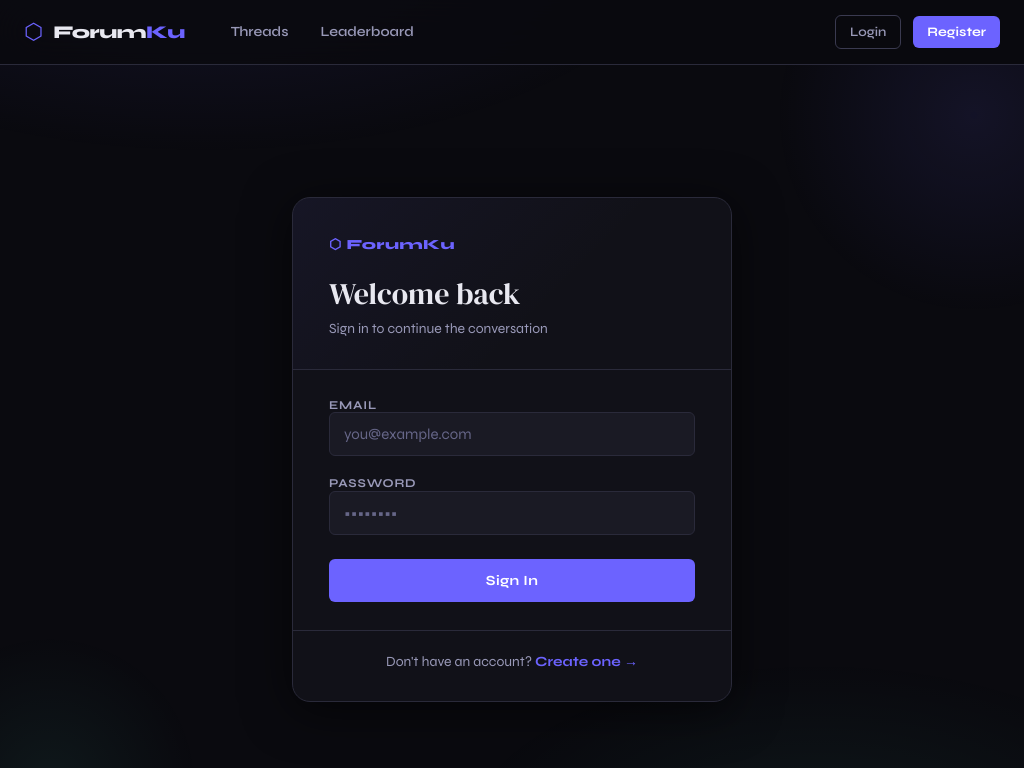
Test: Login Flow › should show error message when login with wrong credentials
The image size is (1024, 768).
Type "wrong@example.com" into the field labelled "Email" at (512, 434), box [329,412,695,456]
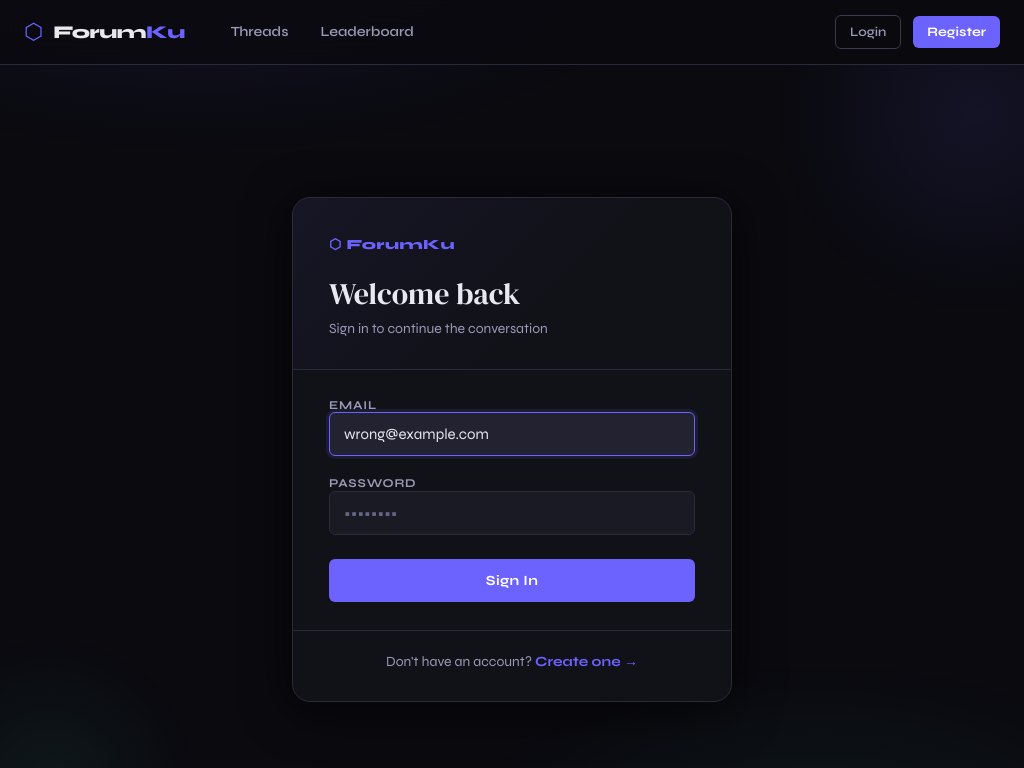
Type "wrongpassword" into the password field labelled "Password" at (512, 512), box [329,490,695,534]
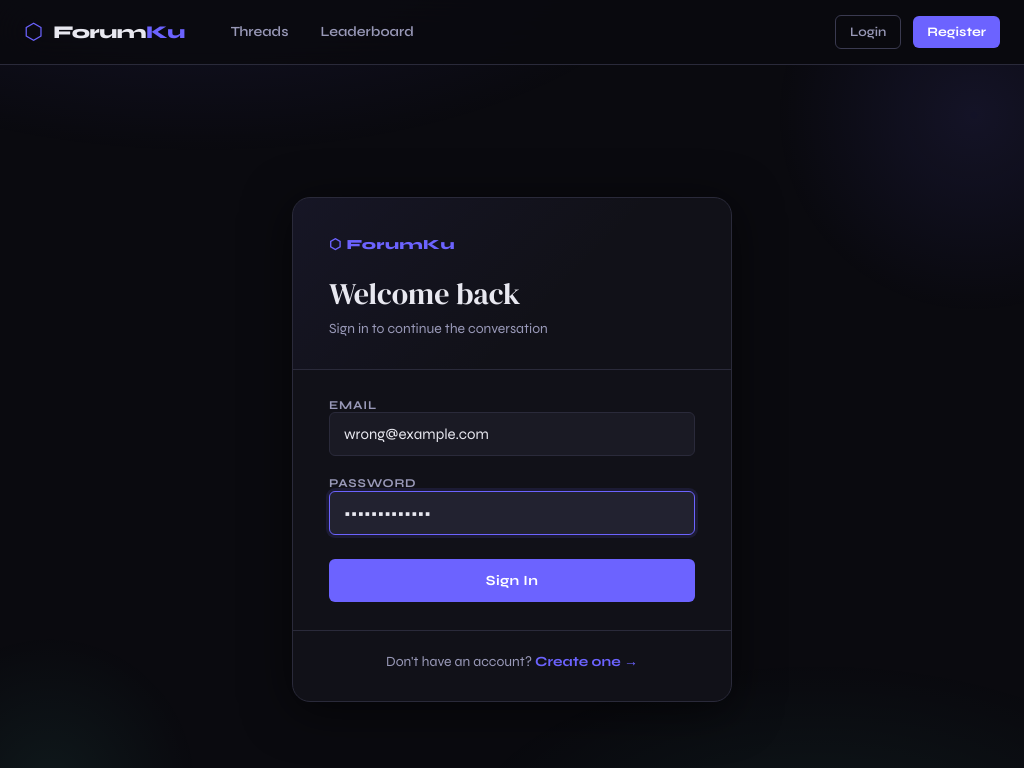
Click the submit button at (512, 580), box [329,558,695,601]
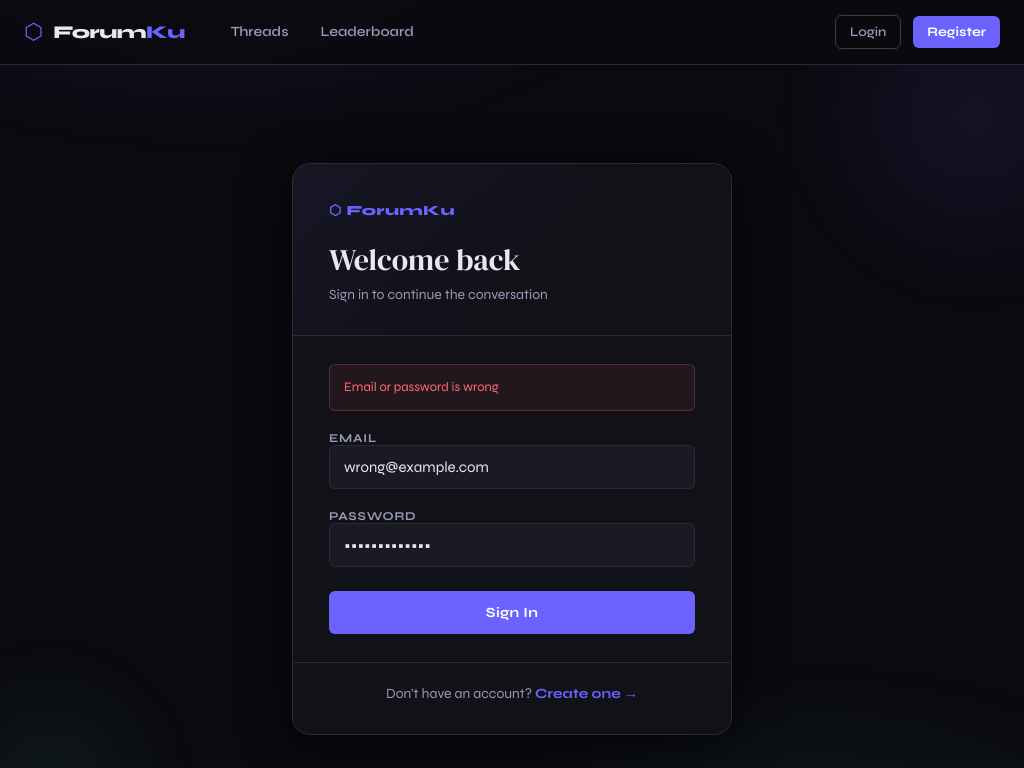
Expected: the text "Email or password is wrong" is shown, [329,364,695,411]
